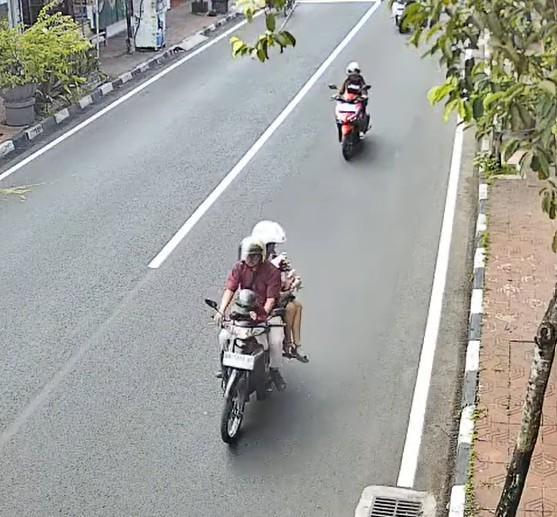Helmet: (251, 220, 285, 244), (239, 236, 265, 261), (234, 289, 256, 313), (346, 61, 360, 74)
Number Plate: (222, 351, 254, 370)
Rearview Mirror: (204, 299, 217, 309), (328, 83, 337, 89)
